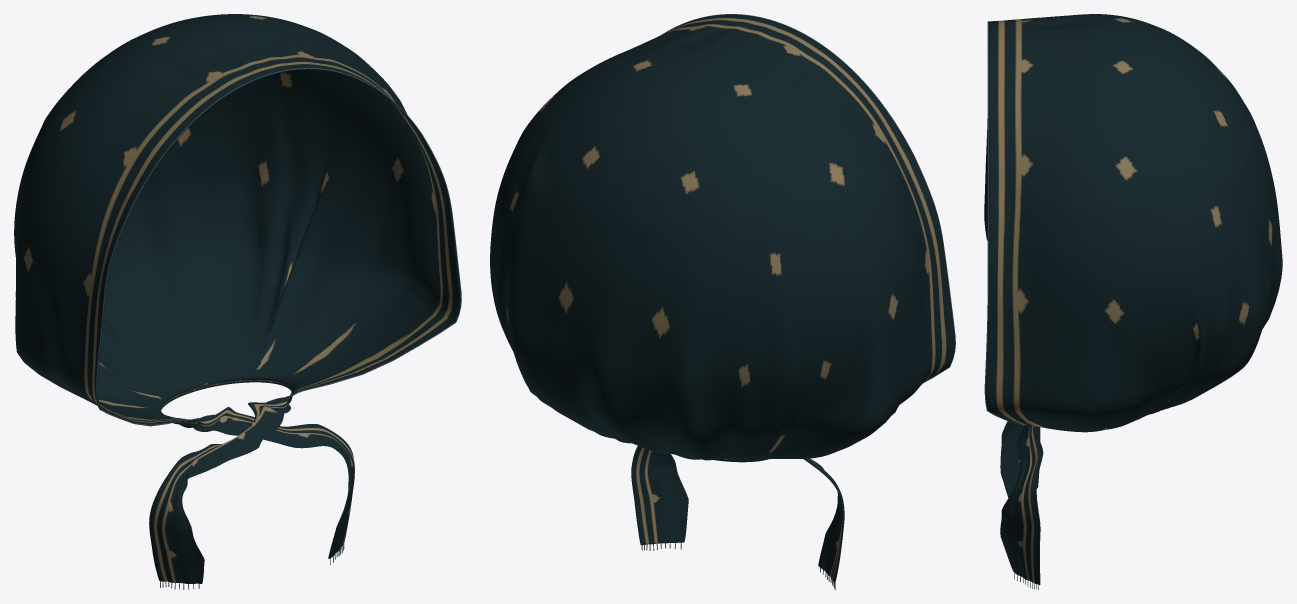
File: Feminine-jersey-pashmina245-headgear.glb
3 renders of one model, left to right at view 1: azimuth 30°, elevation 25°; view 2: azimuth 150°, elevation 25°; view 3: azimuth 270°, elevation 25°, orthographic. The views are drawn at different scales.
Visible parts, largest first — view 1: 226 headgear / Headwear / continuous woven pashmina239, 226 headgear / Headwear / face edge239; view 2: 226 headgear / Headwear / continuous woven pashmina239, 226 headgear / Headwear / face edge239; view 3: 226 headgear / Headwear / continuous woven pashmina239, 226 headgear / Headwear / face edge239.
Part boxes in pixels (left/top/right/bottom): 226 headgear / Headwear / continuous woven pashmina239: left=14, top=14, right=460, bottom=583; 226 headgear / Headwear / face edge239: left=96, top=68, right=461, bottom=426; 226 headgear / Headwear / continuous woven pashmina239: left=490, top=14, right=954, bottom=583; 226 headgear / Headwear / face edge239: left=662, top=14, right=955, bottom=383; 226 headgear / Headwear / continuous woven pashmina239: left=984, top=14, right=1282, bottom=584; 226 headgear / Headwear / face edge239: left=984, top=21, right=1028, bottom=425.
Size of the model in its own units: 1.02 by 1.35 by 0.7116.
Materials: 3 (1 with a texture image).
